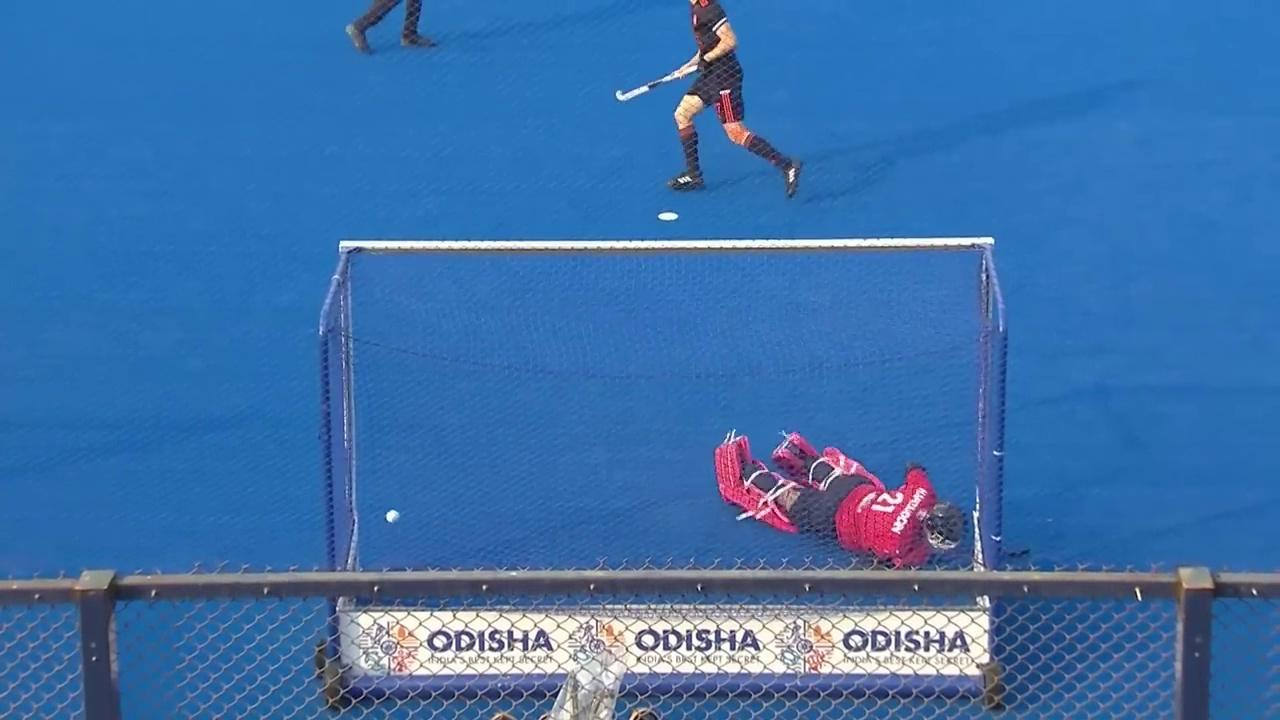ball: (377, 501, 412, 531)
